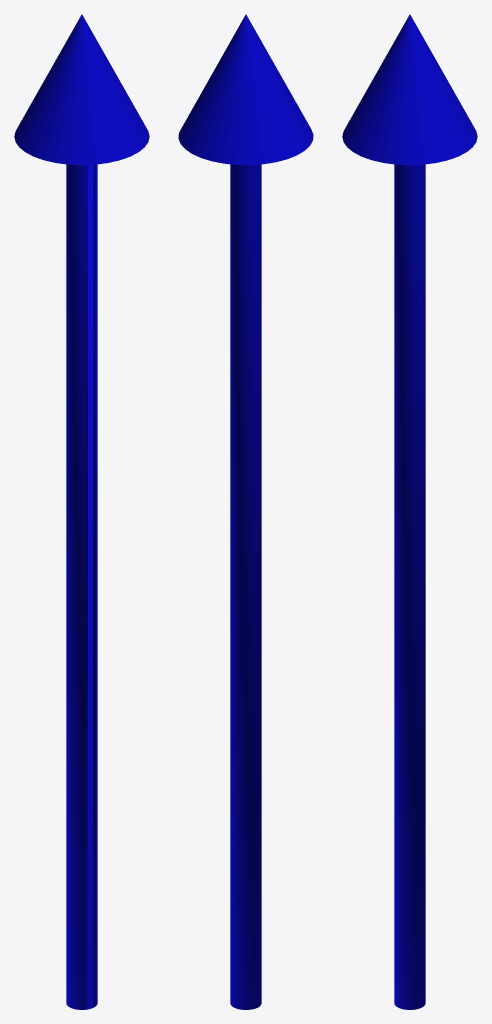
The model's file is normalVector.obj.
3 renders of one model, left to right at view 1: azimuth 90°, elevation 25°; view 2: azimuth 150°, elevation 25°; view 3: azimuth 270°, elevation 25°, orthographic.
Parts seen in each view (by area): view 1: Cylinder_Cylinder.003; view 2: Cylinder_Cylinder.003; view 3: Cylinder_Cylinder.003.
Part boxes in pixels (bbox=[...]): Cylinder_Cylinder.003: bbox=[14, 14, 149, 1009]; Cylinder_Cylinder.003: bbox=[178, 14, 313, 1009]; Cylinder_Cylinder.003: bbox=[342, 14, 477, 1009].
Size of the model in its own units: 0.2417 by 1.95 by 0.2417.
